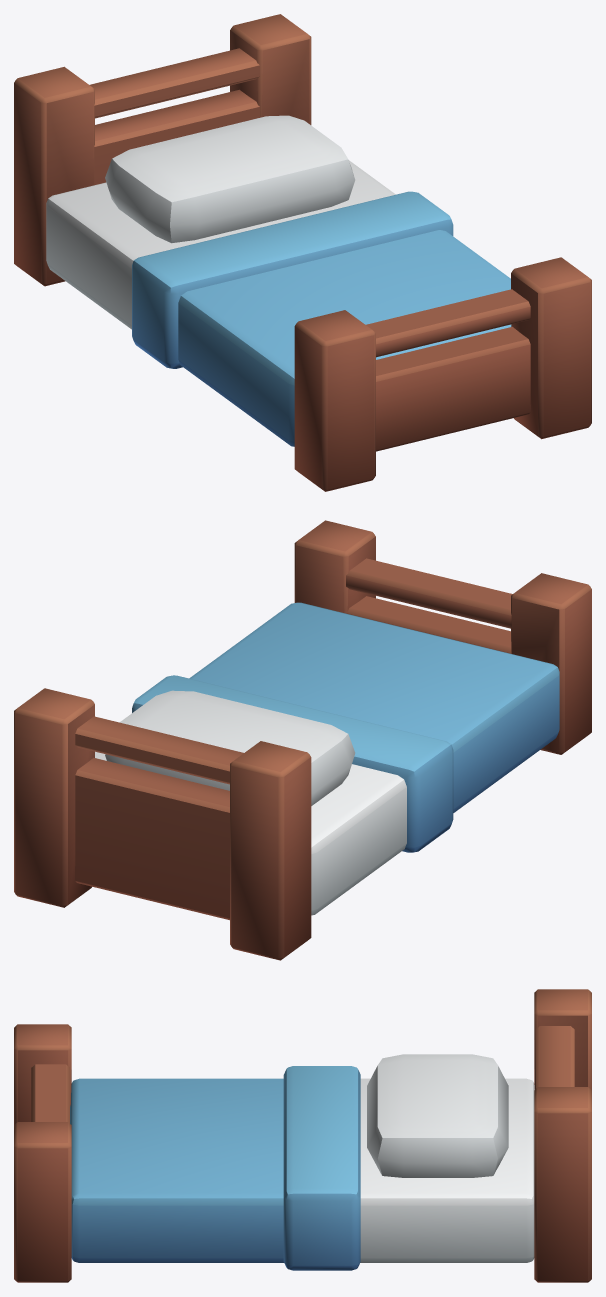
Rendered from bed-sm.glb.
The picture shows the model from 3 angles, top to bottom: view 1: azimuth 30°, elevation 25°; view 2: azimuth 150°, elevation 25°; view 3: azimuth 270°, elevation 25°; orthographic projection. The views are drawn at different scales.
Parts seen in each view (by area): view 1: bed_single_B; view 2: bed_single_B; view 3: bed_single_B.
Boxes of the visible parts, x1,y1,x2,y2 form: bed_single_B: [14, 14, 591, 491]; bed_single_B: [14, 520, 591, 960]; bed_single_B: [14, 989, 591, 1282].
Size of the model in its own units: 1.6 by 1 by 3.
1 material, 1 textured.
